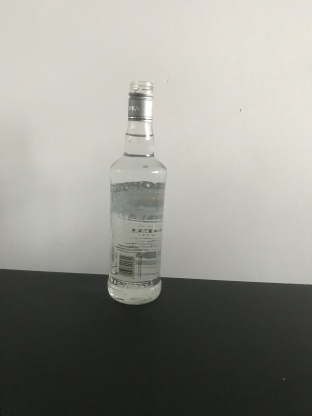nakretka: (125, 79, 155, 123)
